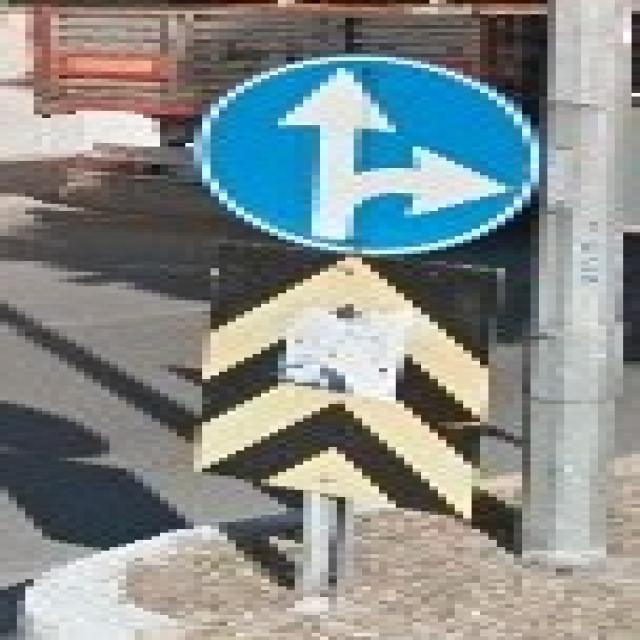Straight or Right: (191, 60, 544, 253)
